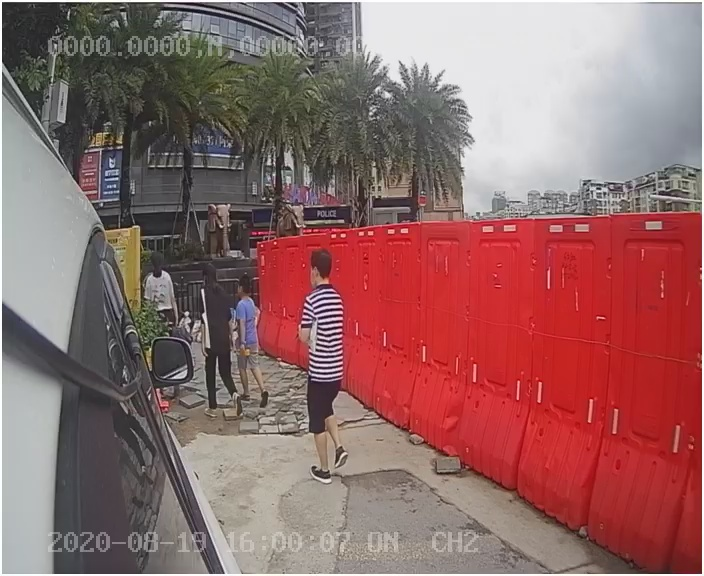person: (270, 246, 367, 492)
